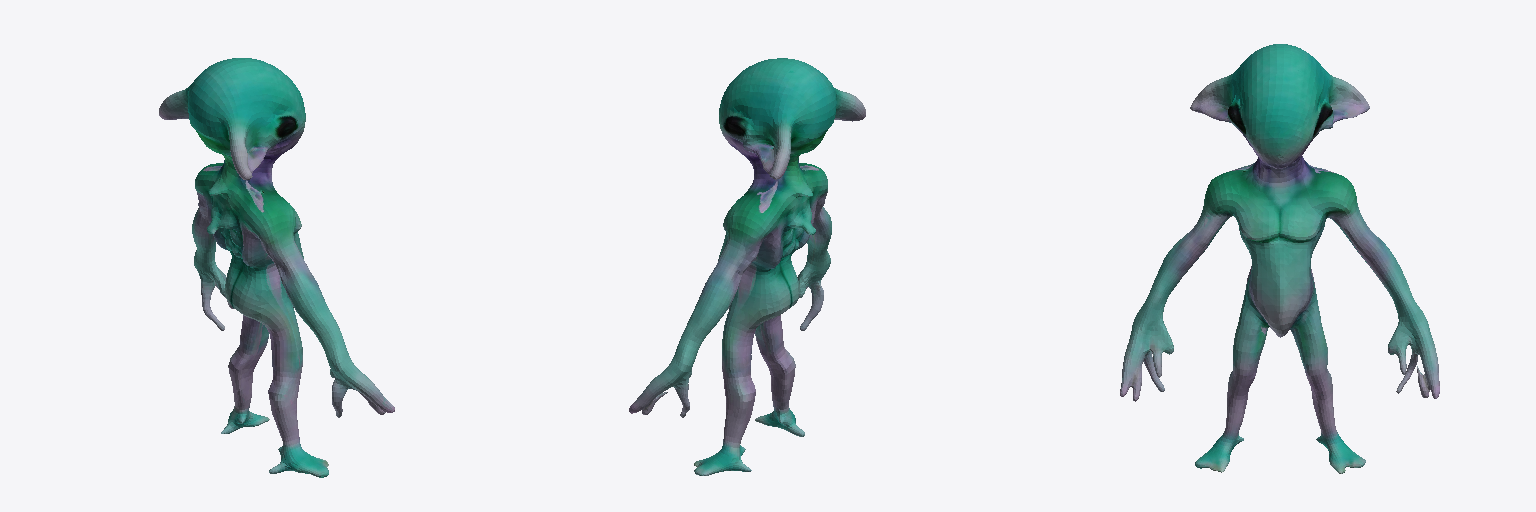
The picture shows the model from 3 angles: view 1: azimuth 30°, elevation 25°; view 2: azimuth 150°, elevation 25°; view 3: azimuth 270°, elevation 25°; orthographic projection.
Parts seen in each view (by area): view 1: mesh; view 2: mesh; view 3: mesh.
Part boxes in pixels (left/top/right/bottom): mesh: left=159, top=58, right=394, bottom=477; mesh: left=629, top=58, right=865, bottom=475; mesh: left=1120, top=44, right=1439, bottom=473.
Bounding box in the file's own units: 0.3204 × 0.9992 × 0.7325.
Materials: 1 (1 with a texture image).